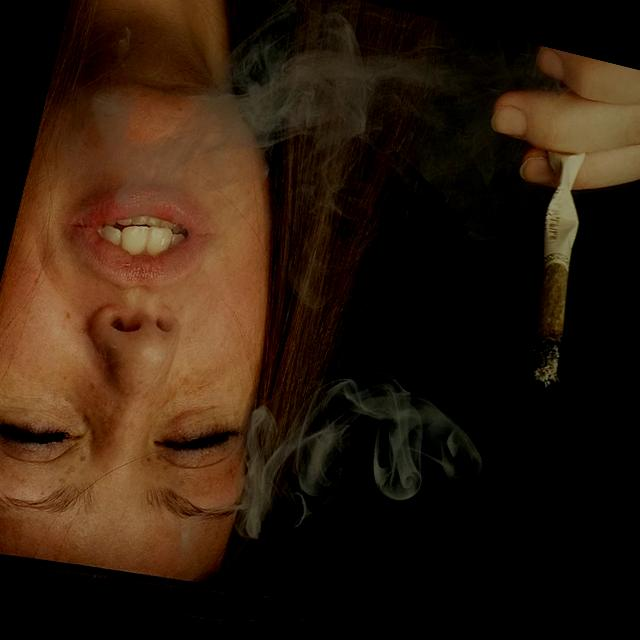cigarette: (484, 137, 616, 391)
